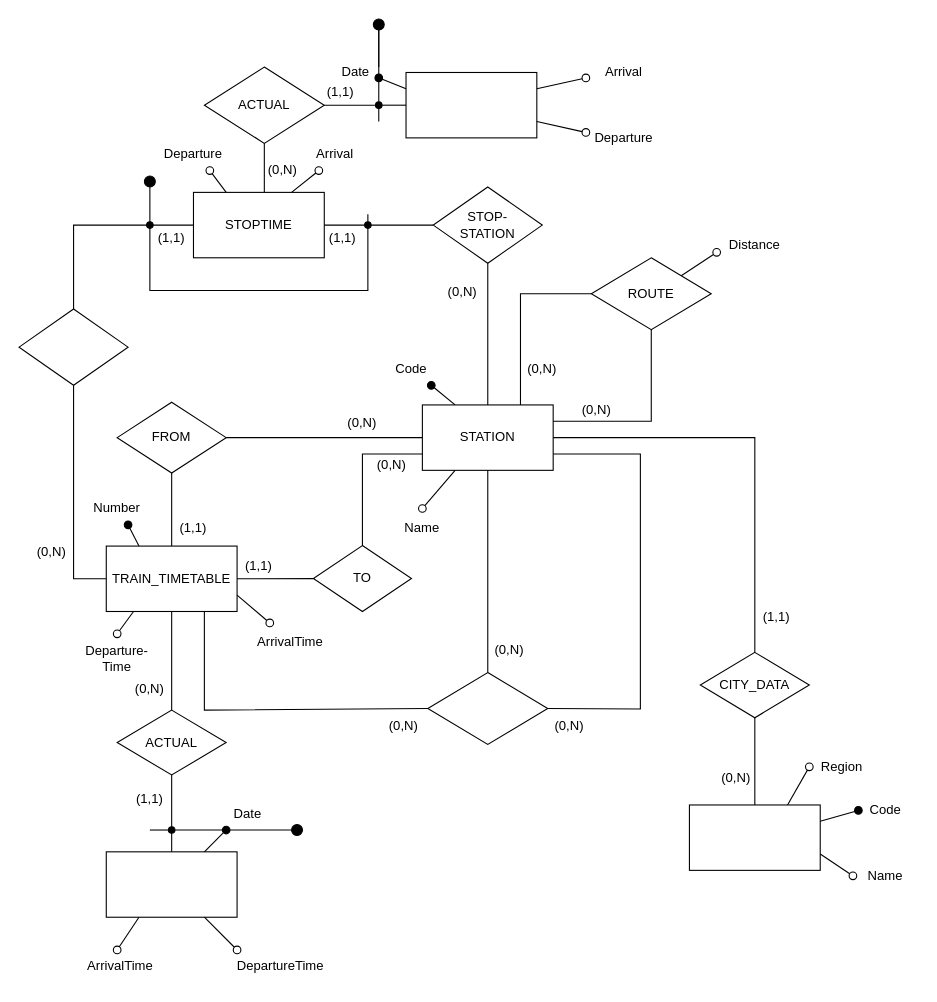
Some shapes in this 937 by 1002 pixel diagram are drawn without their labels. Each missing label, with the centre of its shape:
ACTUALSTOP: point (471, 104)
ACTUALTRAIN: point (171, 884)
CITY: point (754, 837)
STOP_TRAIN: point (73, 346)
TRAINROUTE: point (487, 707)
